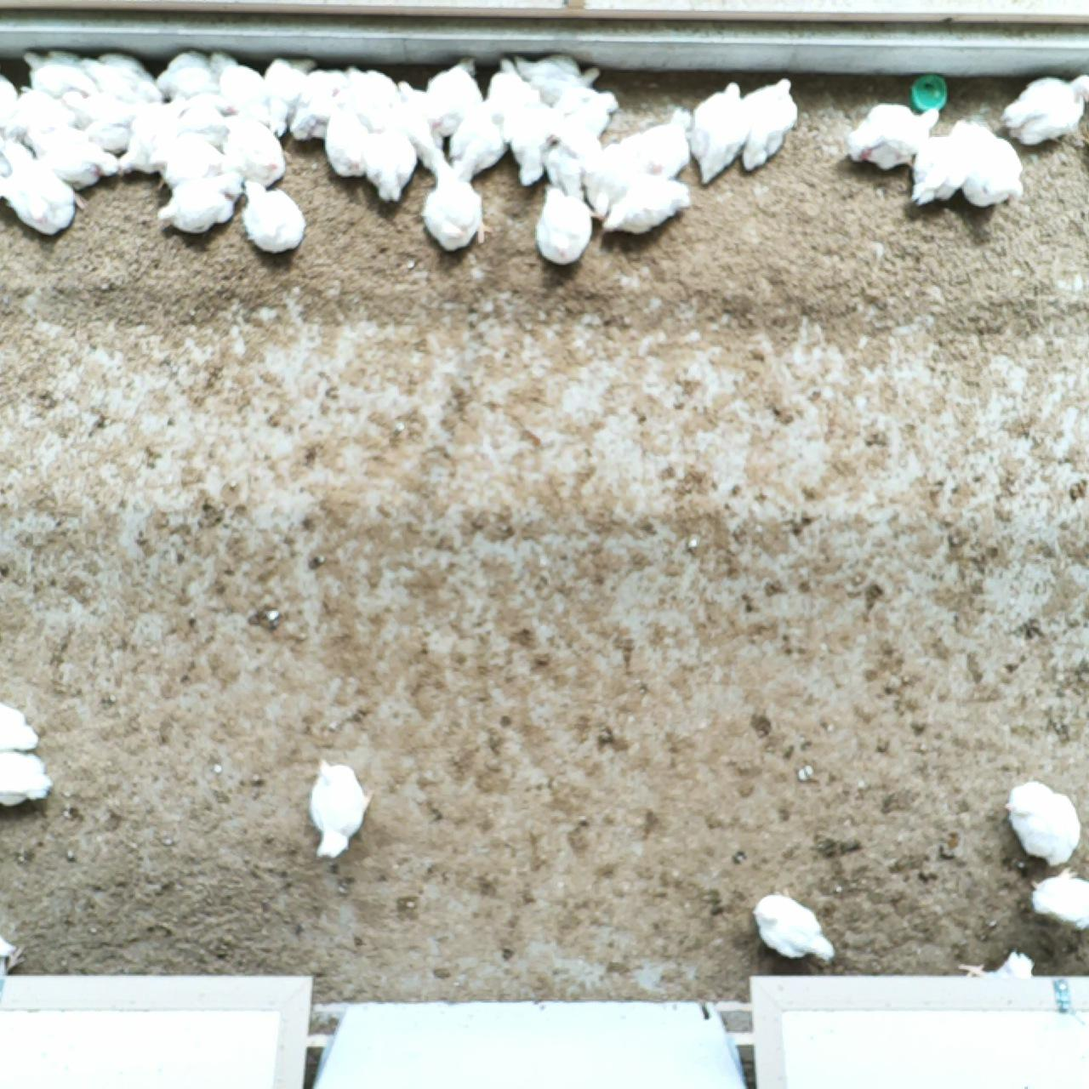chicken: (418, 138, 490, 252), (1001, 777, 1079, 871), (0, 137, 76, 232), (113, 104, 195, 192), (1005, 65, 1089, 149), (303, 758, 373, 857), (24, 124, 121, 194), (906, 117, 979, 208), (688, 81, 750, 187), (959, 113, 1025, 209), (853, 101, 943, 171), (736, 77, 801, 172), (752, 890, 834, 965), (604, 172, 695, 239), (603, 113, 694, 180), (155, 174, 246, 239), (141, 136, 231, 200), (239, 177, 307, 258), (949, 951, 1039, 1012), (72, 49, 161, 110), (580, 135, 640, 220), (449, 92, 506, 181), (360, 122, 419, 205), (536, 186, 594, 269), (514, 98, 568, 187), (291, 65, 351, 143), (219, 115, 285, 184), (4, 74, 75, 134), (425, 59, 484, 131), (1026, 863, 1089, 930), (254, 54, 302, 141), (151, 49, 227, 103), (169, 94, 243, 148), (19, 43, 97, 94), (543, 125, 600, 191), (340, 71, 396, 137), (390, 76, 442, 147), (488, 53, 543, 120), (214, 61, 271, 124), (556, 80, 622, 134), (0, 745, 53, 811), (324, 107, 372, 179), (517, 49, 594, 92), (62, 87, 140, 128), (76, 116, 134, 154), (0, 699, 38, 754), (0, 932, 31, 989), (0, 70, 21, 135)
